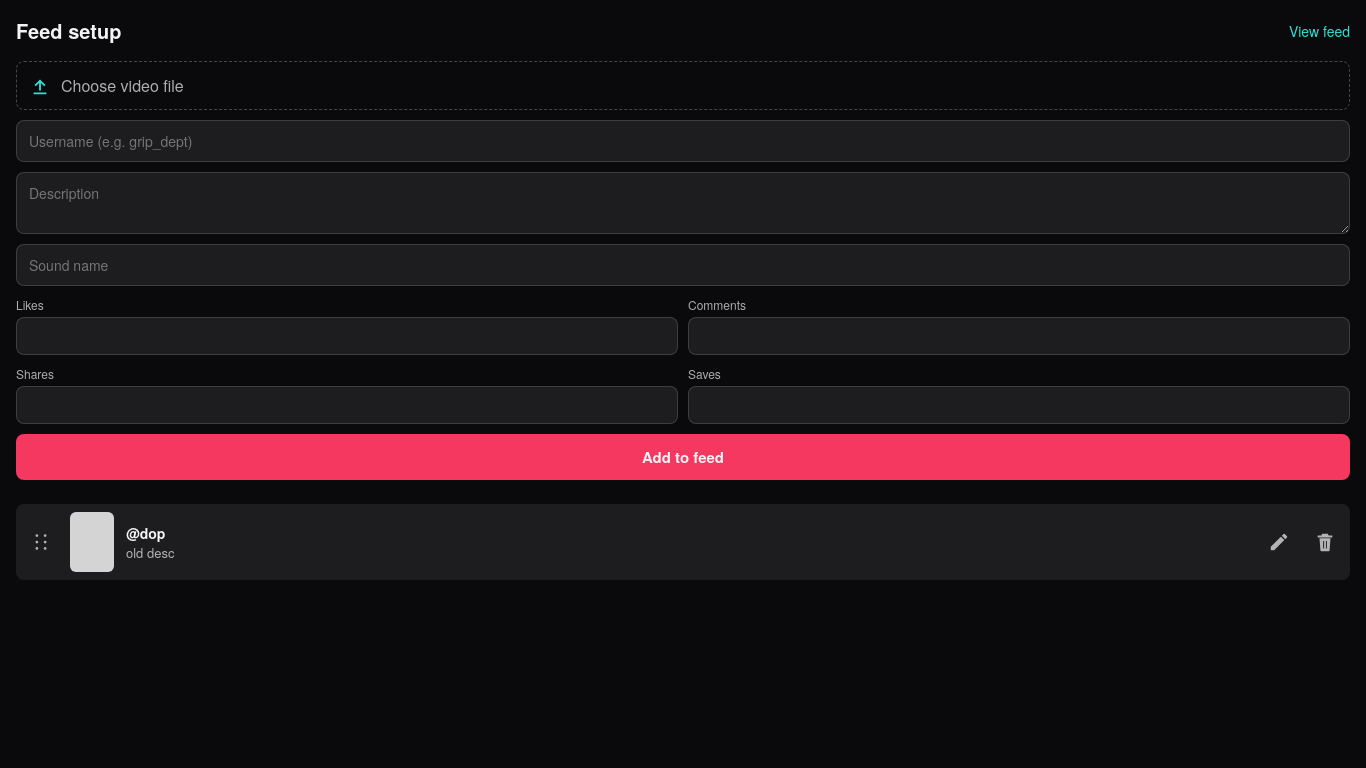
Test: SetupScreen editing › cancels editing and restores create mode
The image size is (1366, 768).
Click the button named "edit @dop".
click(1279, 542)  # box x1=1262 y1=525 x2=1296 y2=559
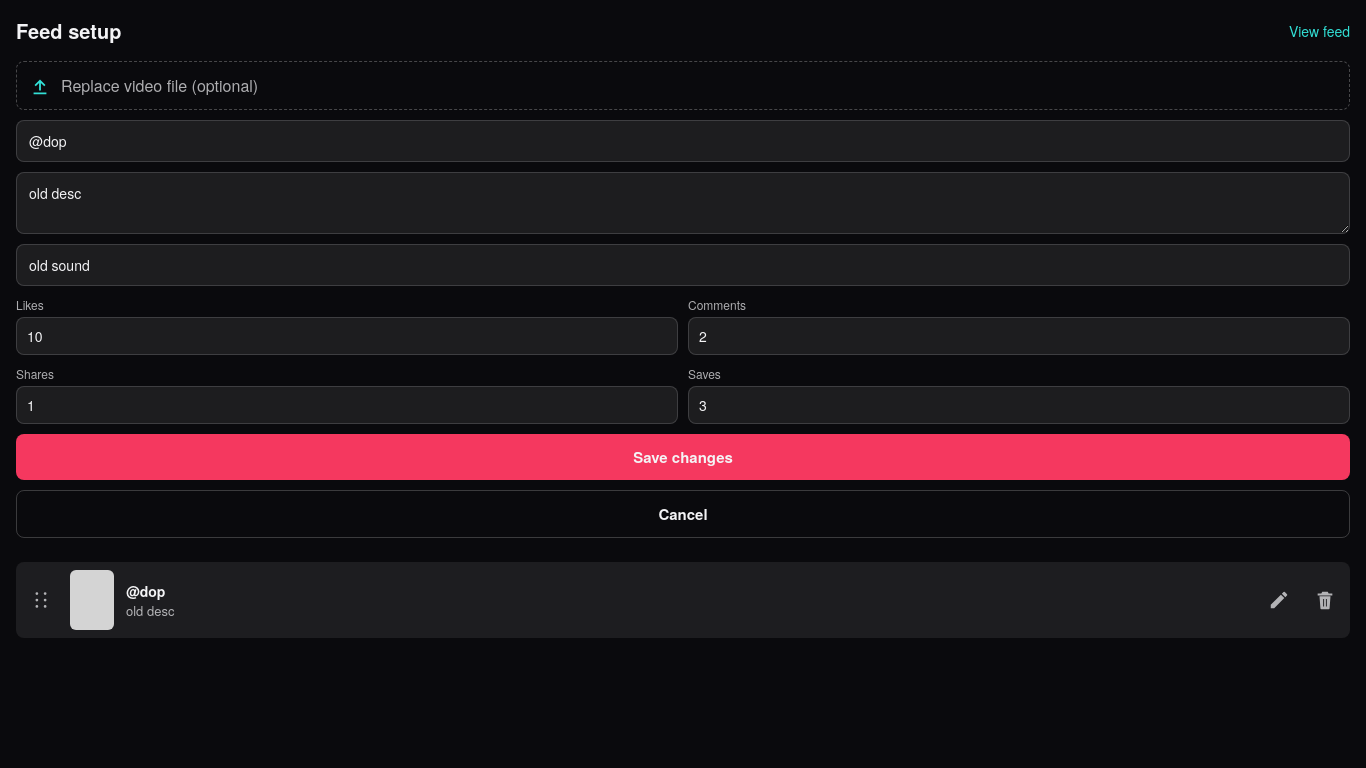
Click the button "Cancel".
click(683, 514)  # box x1=16 y1=490 x2=1350 y2=538
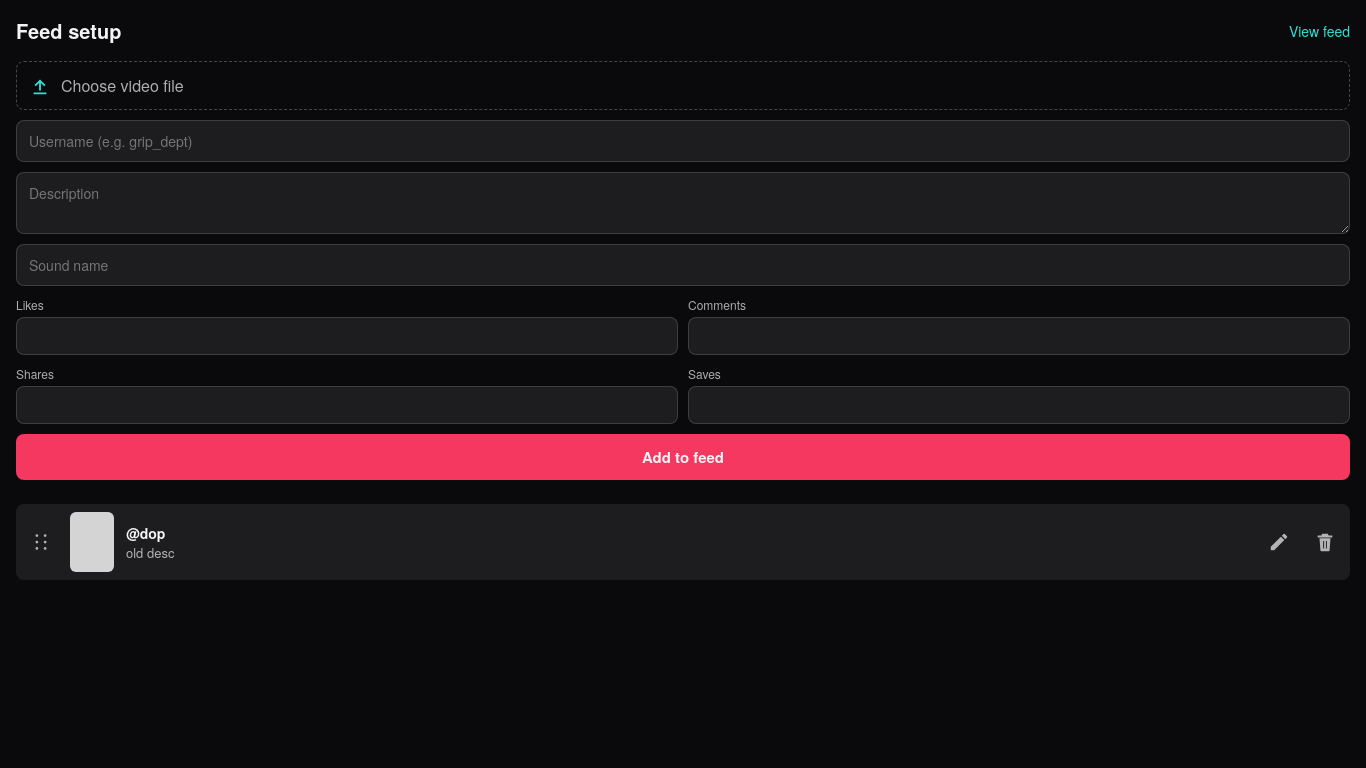
Expected: the button "Add to feed" is shown, x1=16 y1=434 x2=1350 y2=480
